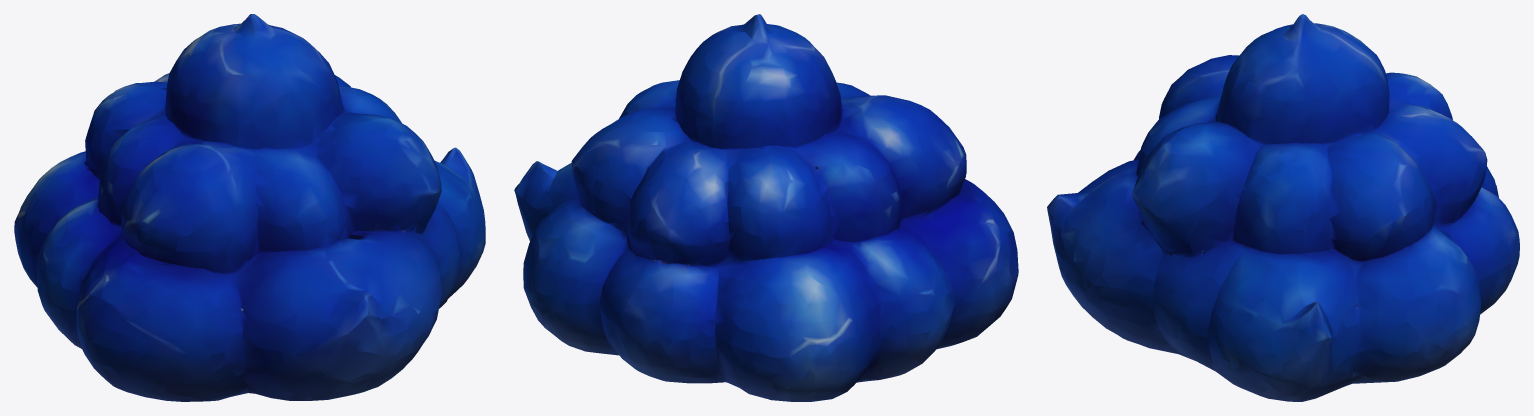
The model's file is 0001_mask_002_blue_grapes.glb.
3 views of the same model, side by side, from view 1: azimuth 30°, elevation 25°; view 2: azimuth 150°, elevation 25°; view 3: azimuth 270°, elevation 25° (orthographic). The views are drawn at different scales.
Visible parts, largest first — view 1: mask_002_object; view 2: mask_002_object; view 3: mask_002_object.
Part boxes in pixels (x1,y1,x2,y2): mask_002_object: [14, 14, 485, 401]; mask_002_object: [514, 14, 1018, 401]; mask_002_object: [1047, 14, 1519, 401].
Bounding box in the file's own units: 0.1723 × 0.1164 × 0.165.
